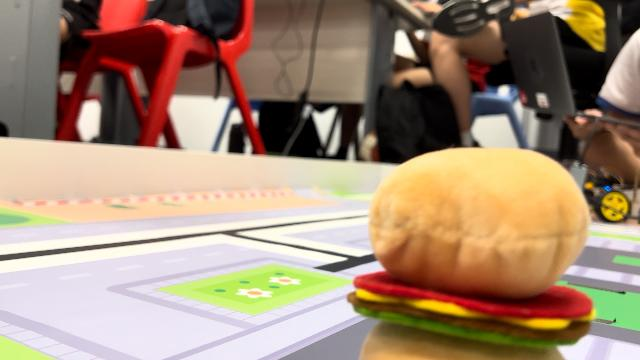burger: (365, 143, 592, 360)
